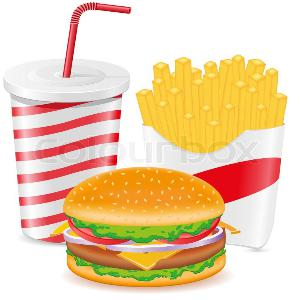cheeseburger_475cal: (58, 158, 248, 288)
fries_350cal: (134, 49, 296, 151)
